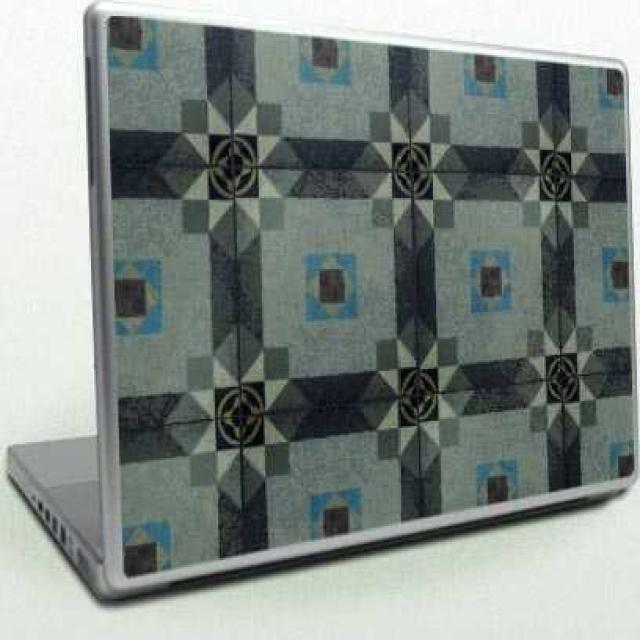laptop: (33, 16, 629, 546)
